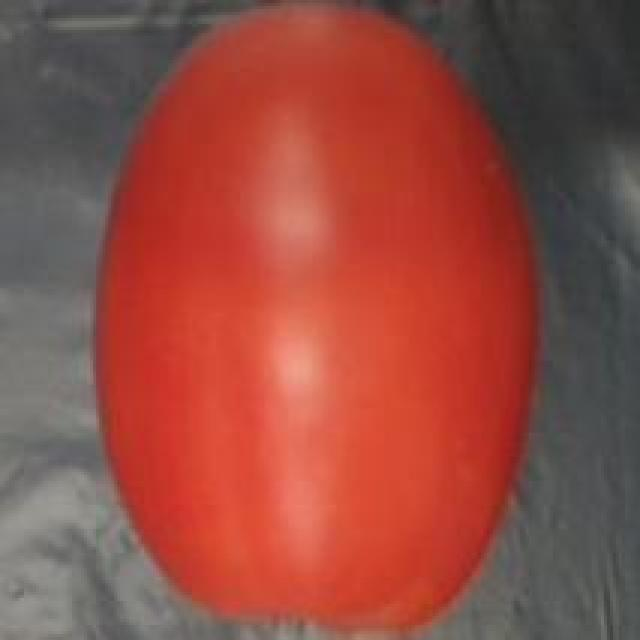ripe tomato: (66, 3, 562, 640)
